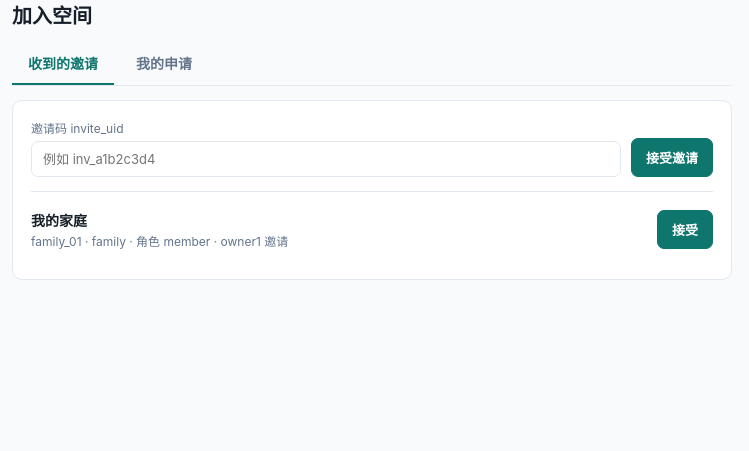
Test: JoinSpaceView › validates that the apply ouid is required
Click the tab with test id "tab-requests": (164, 64) [120,43,208,85]
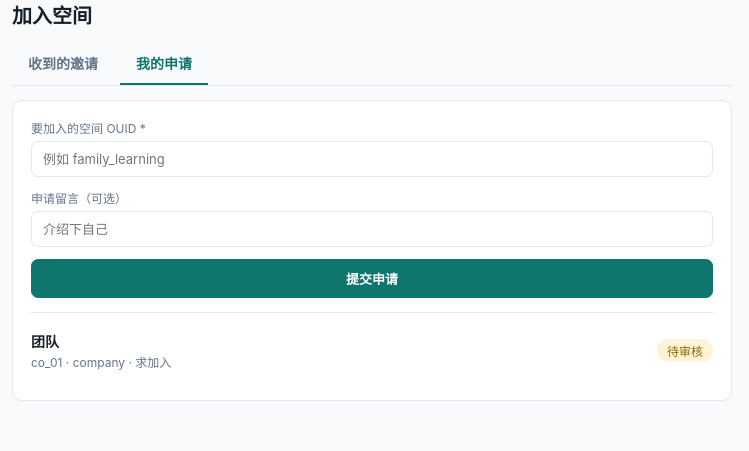
Submit the form, box [31,119,713,313]
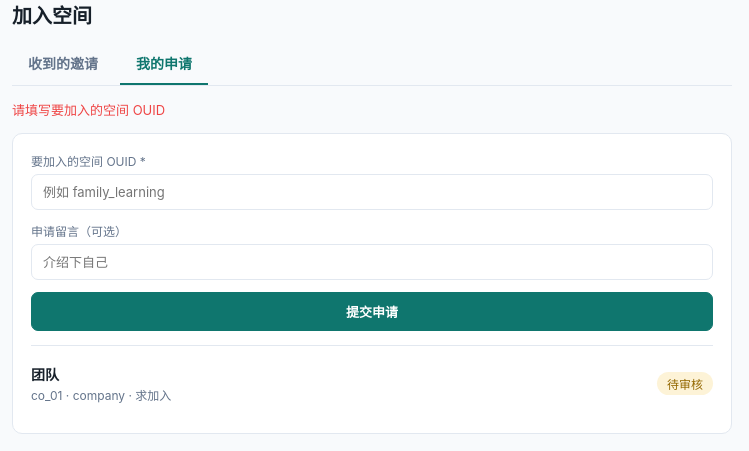
Check: the text with test id "join-error" shows "OUID", box [12,102,165,118]
